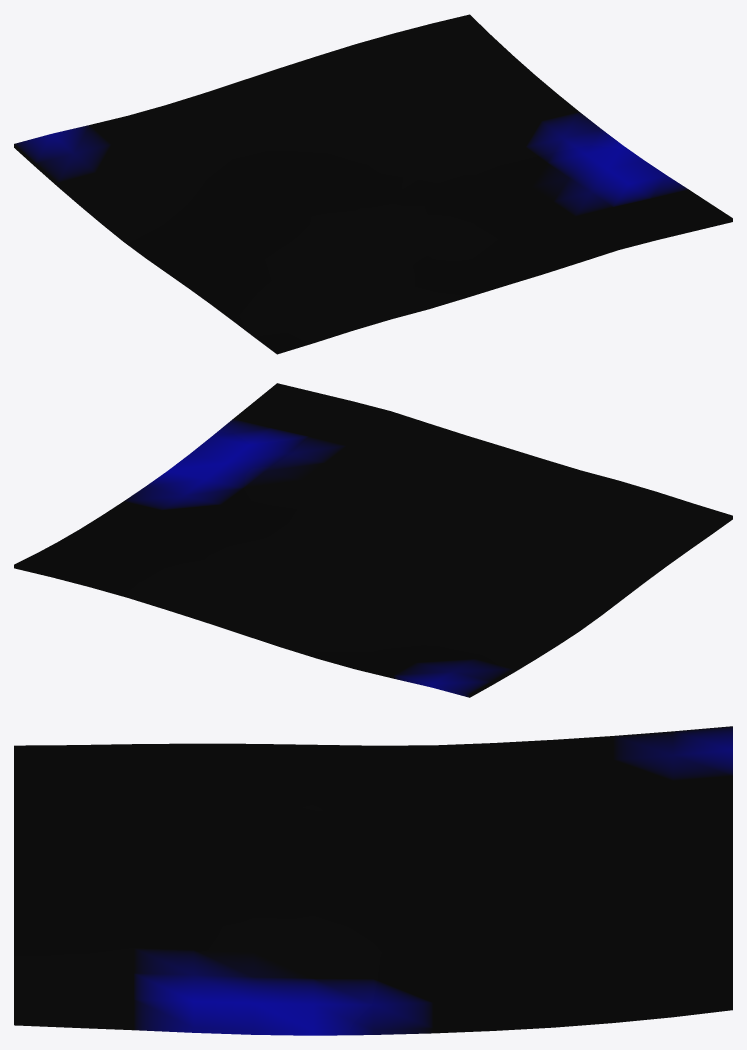
File: coast_2_2.glb
3 renders of one model, top to bottom at view 1: azimuth 30°, elevation 25°; view 2: azimuth 150°, elevation 25°; view 3: azimuth 270°, elevation 25°, orthographic. The views are drawn at different scales.
Visible parts, largest first — view 1: terrain; view 2: terrain; view 3: terrain.
Boxes of the visible parts, x1,y1,x2,y2 form: terrain: (14, 14, 732, 354); terrain: (14, 383, 732, 697); terrain: (14, 726, 732, 1035).
Size of the model in its own units: 192 by 14.67 by 192.
